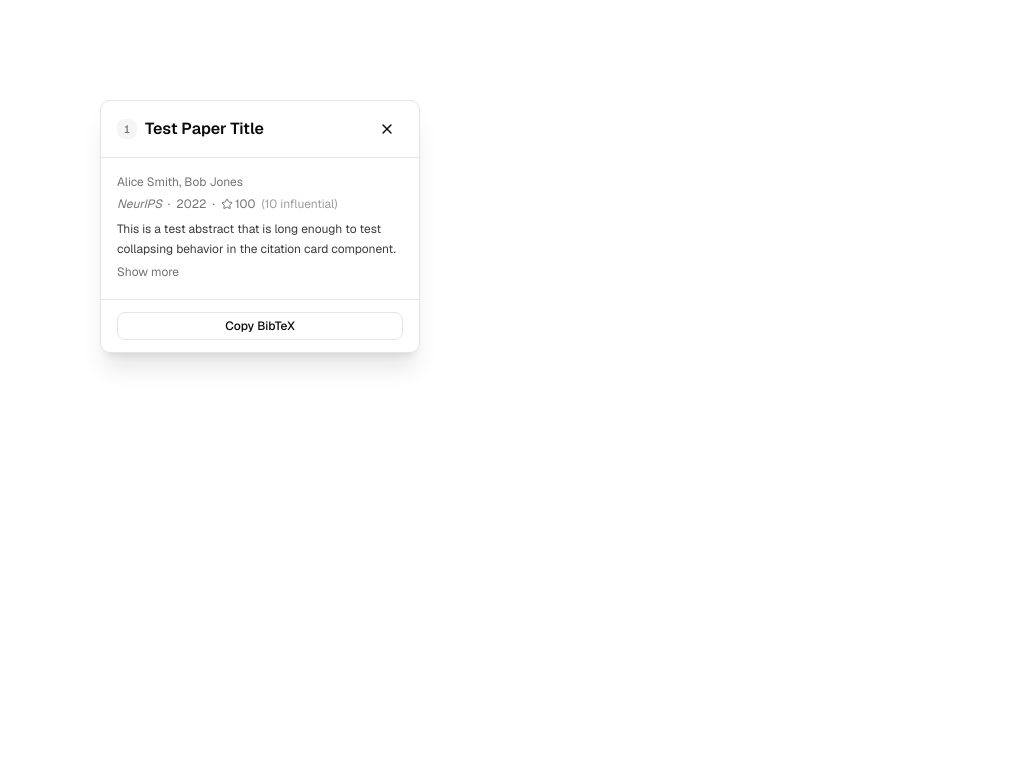
Test: CitationCard abstract collapse › abstract starts collapsed; 'Show more' expands it
Click the button "Show more". click: click(148, 272)
box: [117,264,179,280]
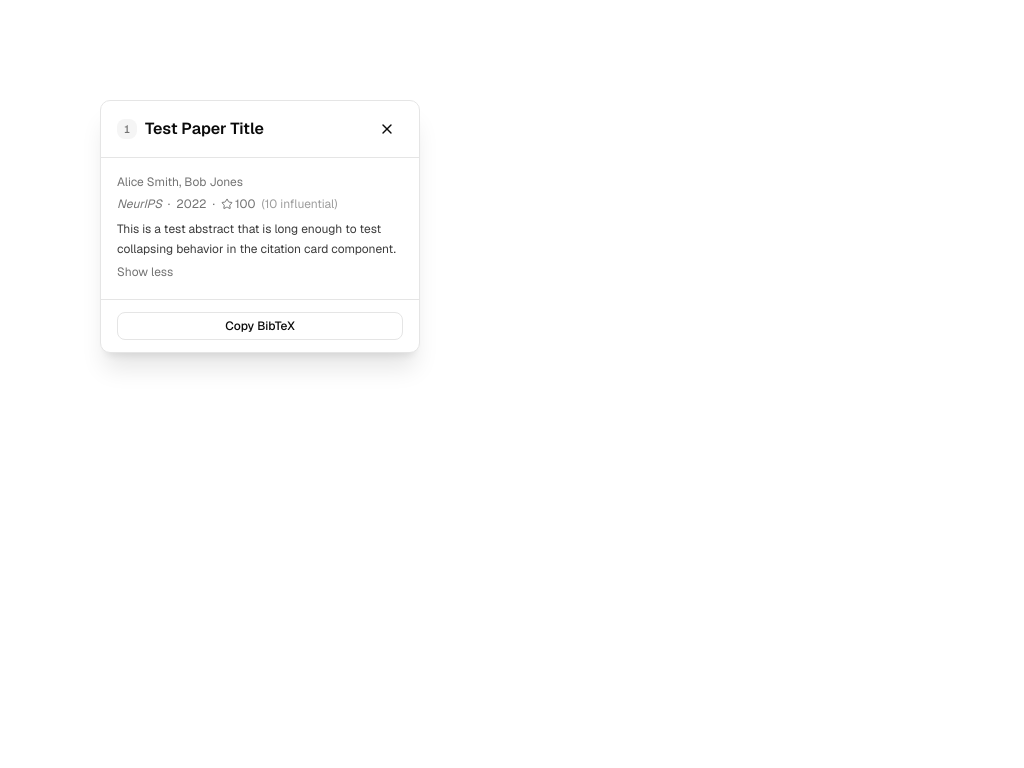
Now the button "Show less" is shown, box [117,264,173,280]
